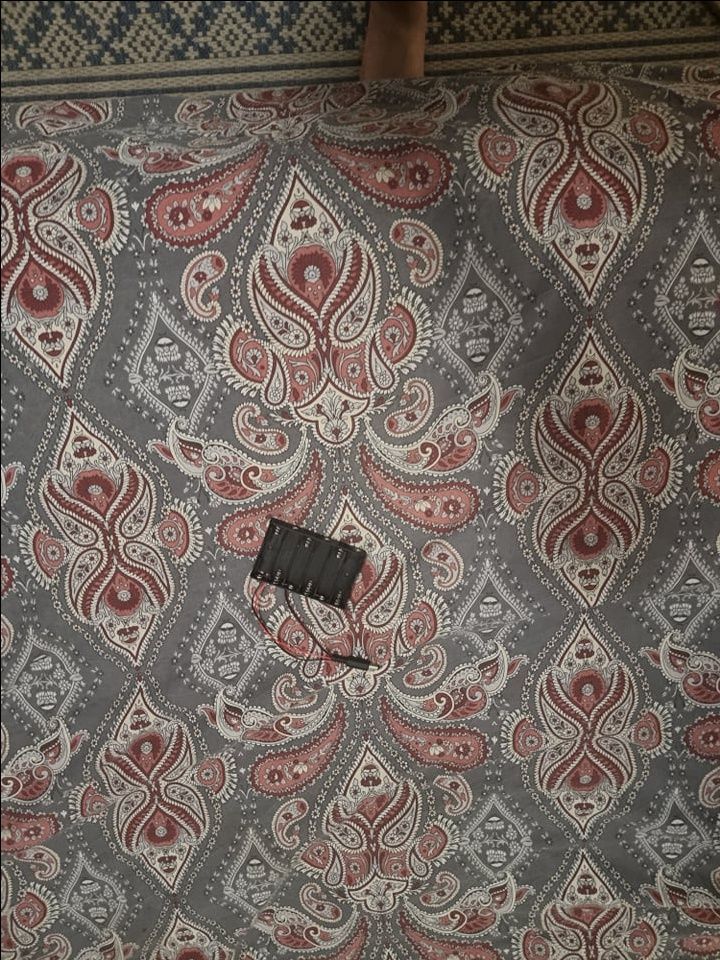BATTERY BOX: (249, 513, 367, 616)
